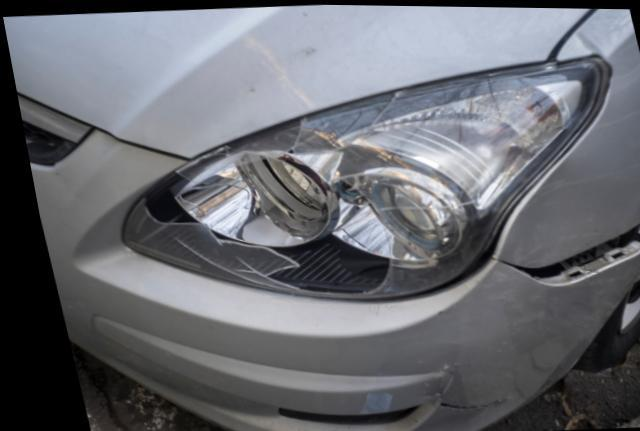crack: (409, 390, 496, 409)
dislocated part: (55, 218, 640, 431)
lamp broken: (112, 53, 604, 299)
